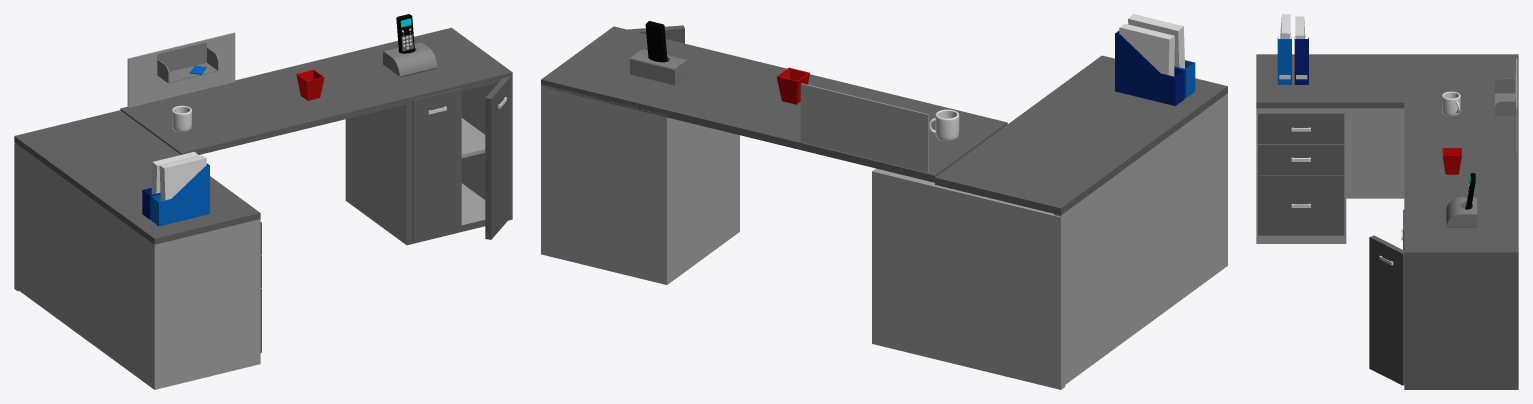
Rendered from _ureau 2.fbx.
3 views of the same model, side by side, from view 1: azimuth 30°, elevation 25°; view 2: azimuth 150°, elevation 25°; view 3: azimuth 270°, elevation 25° (orthographic). The views are drawn at different scales.
Parts seen in each view (by area): view 1: pCube140, pCube141, pCube150, pCube158, pCube144, pCube156, pCube142, Telephone, pasted__polySurface2; view 2: pCube140, pCube150, pCube141, pCube144, pCube142, pasted__polySurface2, Telephone; view 3: pCube140, pCube141, pCube144, pCube158, pCube142, pasted__polySurface2, Telephone.
Part boxes in pixels (x1,y1,x2,y2): pCube140: [14, 27, 512, 389]; pCube141: [142, 151, 209, 226]; pCube150: [127, 32, 235, 107]; pCube158: [157, 42, 218, 83]; pCube144: [383, 42, 437, 77]; pCube156: [461, 118, 485, 158]; pCube142: [296, 70, 324, 100]; Telephone: [396, 14, 414, 53]; pasted__polySurface2: [172, 105, 191, 132]; pCube140: [541, 25, 1227, 389]; pCube150: [800, 83, 928, 172]; pCube141: [1115, 14, 1195, 105]; pCube144: [630, 49, 694, 85]; pCube142: [776, 67, 809, 104]; pasted__polySurface2: [928, 109, 959, 141]; Telephone: [645, 21, 667, 62]; pCube140: [1256, 54, 1518, 389]; pCube141: [1277, 14, 1308, 84]; pCube144: [1446, 197, 1477, 227]; pCube158: [1495, 74, 1515, 116]; pCube142: [1442, 148, 1461, 174]; pasted__polySurface2: [1442, 91, 1460, 116]; Telephone: [1465, 173, 1475, 209].
Size of the model in its own units: 6.26 by 2.84 by 3.48.
